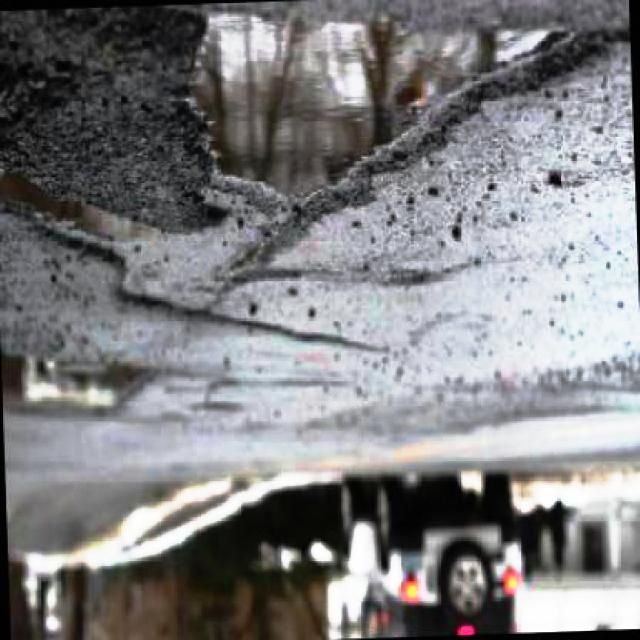pothole: (0, 0, 625, 323), (0, 352, 166, 417)
